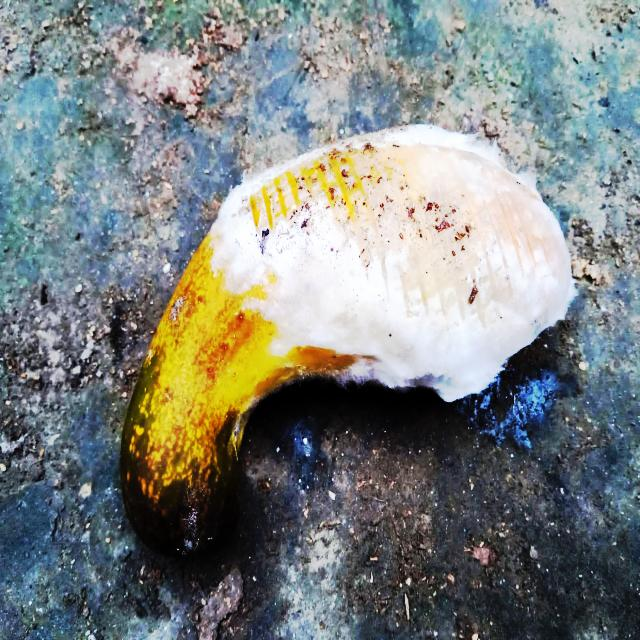Pythium-Fruit-Rot: (213, 120, 575, 404)
